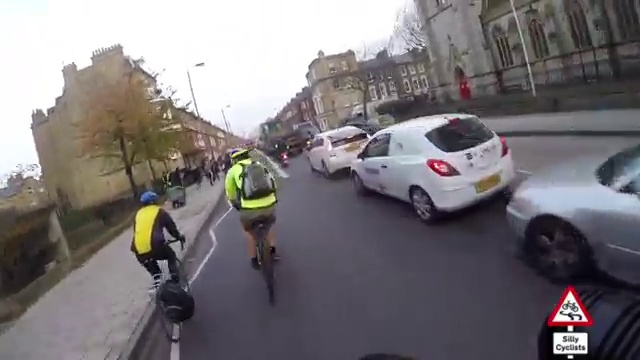cyclist_back: (222, 145, 294, 309), (128, 191, 200, 344)
